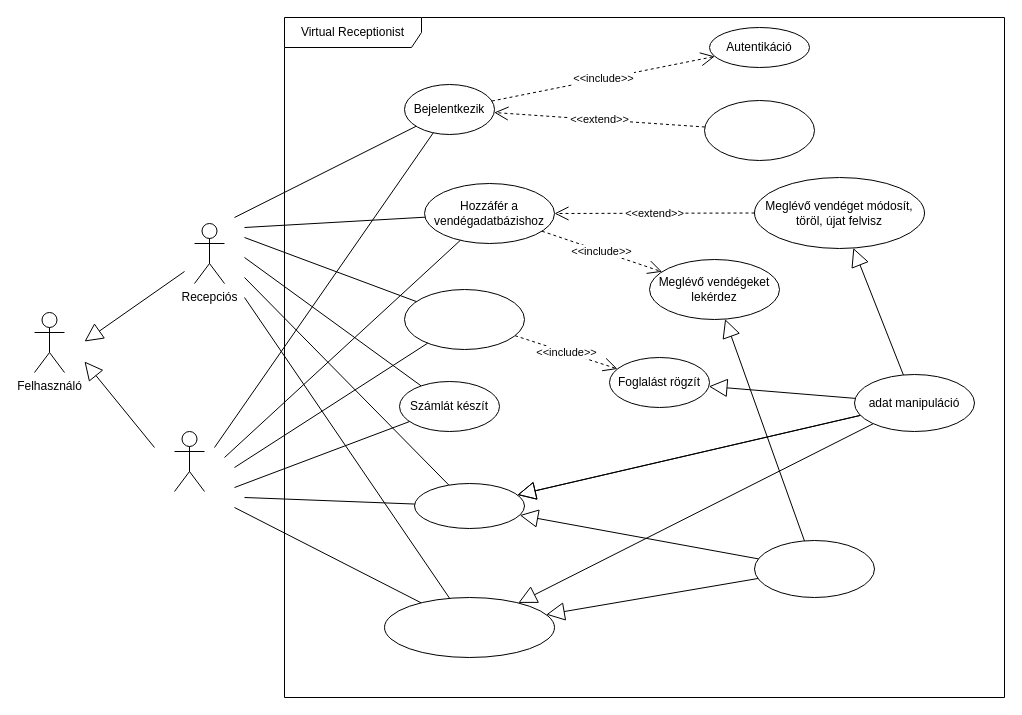
Some shapes in this 1022 by 715 pixel diagram are drawn without their labels. The centre of each missing label's shape, as x and y in pixels:
"adatlekérdezés" goes at point (814, 569).
"Hiba az autentikációban" goes at point (759, 130).
"Menedzser" goes at point (189, 461).
"Szoba adatokat konfigurál" goes at point (469, 505).
"Számlázási tételek adatait konfigurál" goes at point (469, 627).
"Vendég érkezését rögzíti" goes at point (464, 319).
